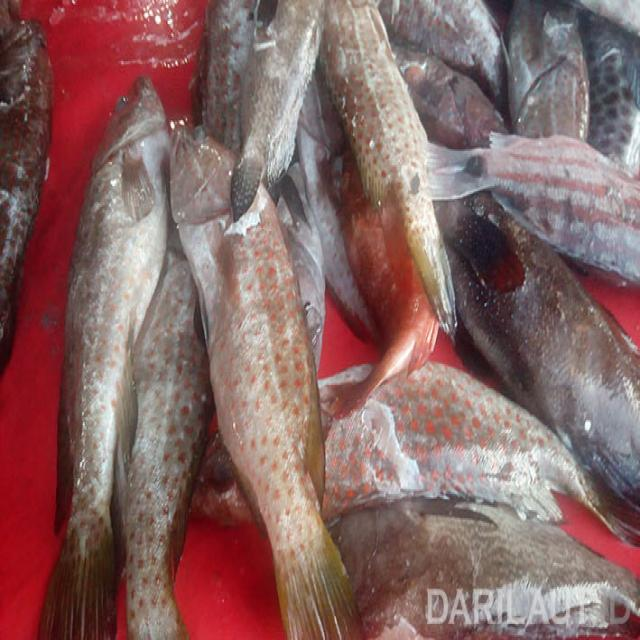grouper: (166, 113, 367, 638), (49, 62, 178, 640)
